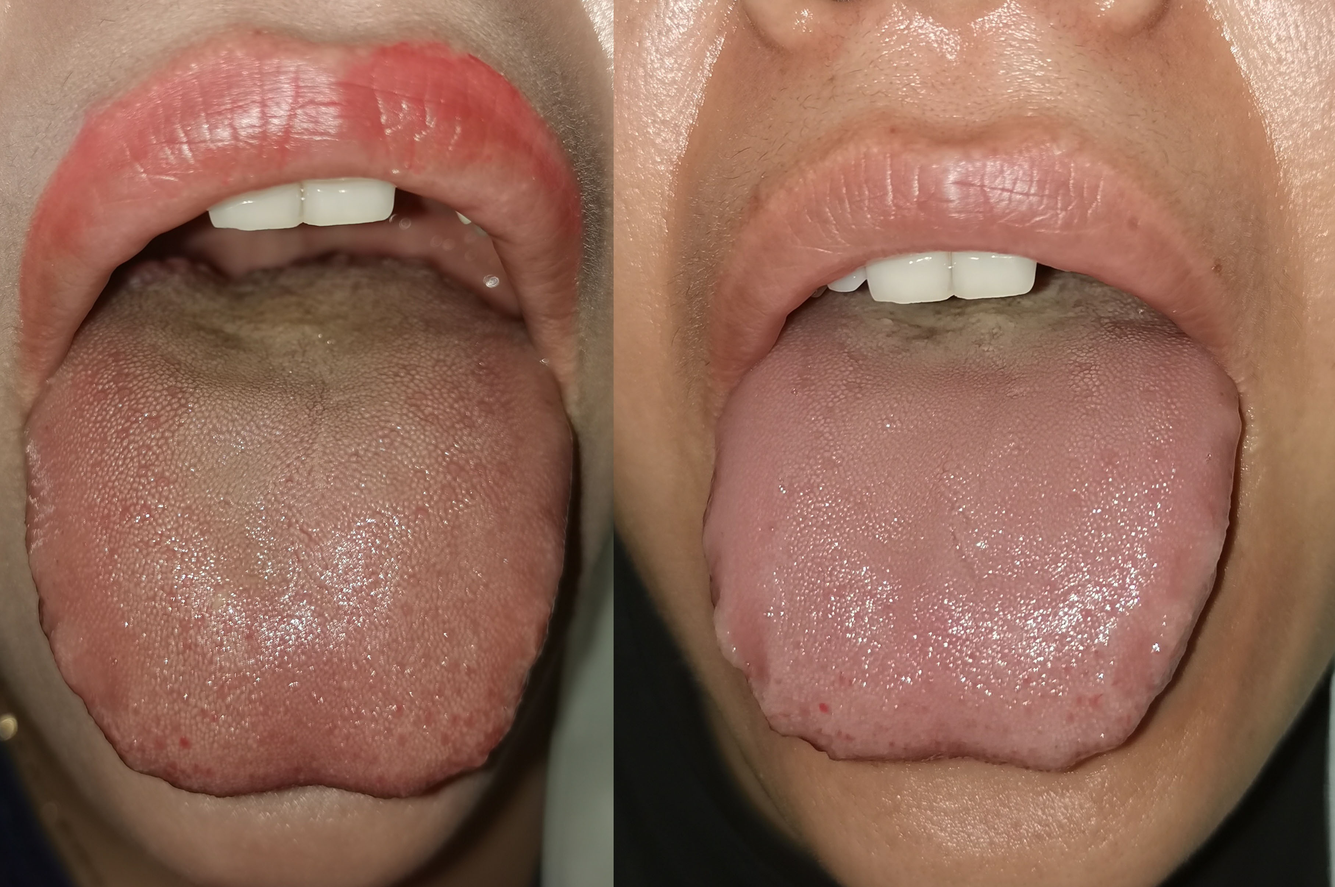baitaishe: (702, 269, 1241, 770)
hongdianshe: (812, 694, 834, 723), (175, 732, 195, 754)
hongshe: (21, 245, 573, 800)
huangtaishe: (22, 246, 574, 801)
